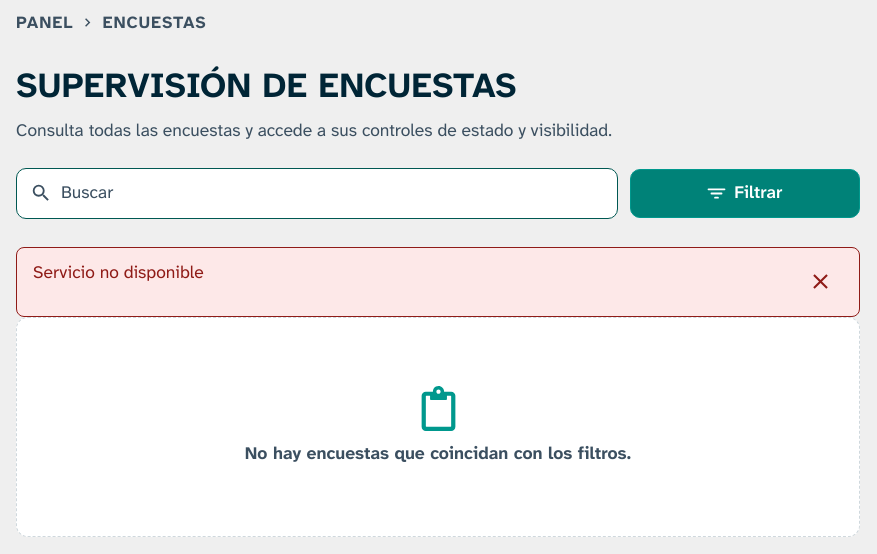
Test: AdminSurveysPage › informa del error de carga y permite descartarlo
Expected: the text "Servicio no disponible" is shown, [33,260,204,284]
Click the button named "cerrar".
click(821, 282)  # box [799,260,843,304]
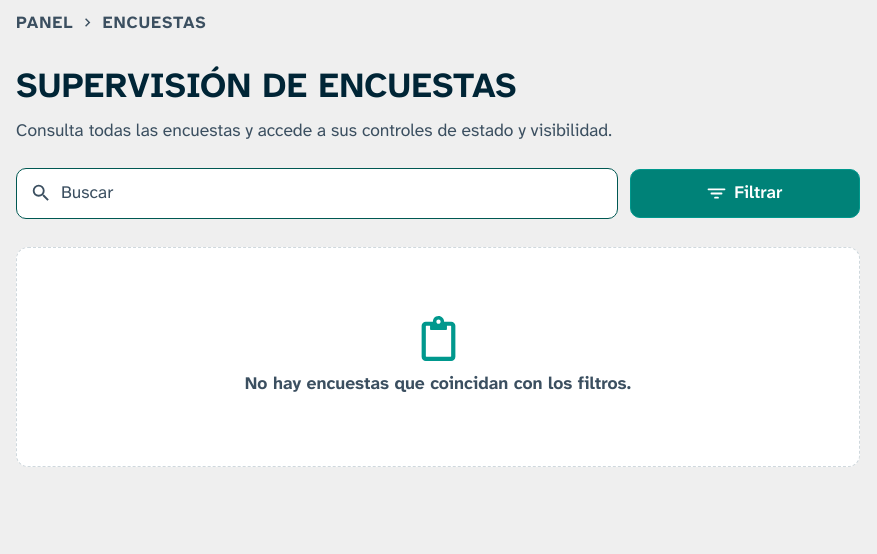
Expected: the text "Servicio no disponible" is gone
